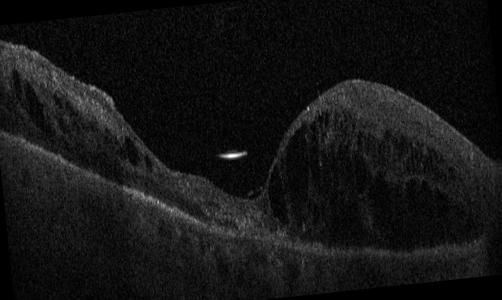intraretinal_cyst: (286, 121, 309, 204), (406, 177, 435, 225), (369, 173, 393, 229), (269, 165, 289, 226), (24, 85, 45, 131), (352, 154, 373, 195), (406, 147, 434, 174), (120, 137, 141, 166), (308, 145, 320, 194), (320, 151, 332, 195), (434, 189, 451, 217), (327, 153, 339, 191), (345, 158, 355, 195), (293, 205, 307, 231), (392, 139, 407, 162), (104, 127, 120, 147), (394, 190, 405, 216), (309, 199, 320, 225), (13, 70, 22, 101), (337, 144, 344, 179), (66, 100, 78, 118), (310, 121, 319, 142), (57, 118, 68, 134), (0, 92, 9, 111), (53, 95, 63, 109), (71, 122, 81, 135), (344, 139, 352, 155), (145, 155, 152, 173), (357, 130, 363, 151), (324, 109, 330, 128), (318, 112, 324, 130), (207, 202, 220, 210), (383, 130, 391, 141), (81, 123, 89, 133), (333, 114, 338, 130), (364, 143, 370, 155), (377, 145, 382, 156), (351, 122, 356, 132), (321, 133, 325, 144), (90, 125, 96, 132), (343, 114, 348, 122), (448, 167, 453, 172), (340, 120, 343, 128), (324, 132, 327, 139), (349, 114, 352, 120)
subretinal_fluid: (216, 218, 238, 230)
